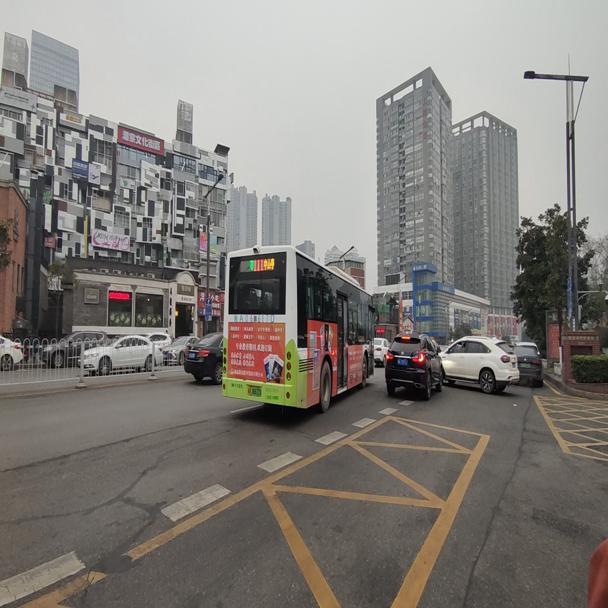bus: (220, 239, 380, 415)
screen: (251, 256, 263, 272)
